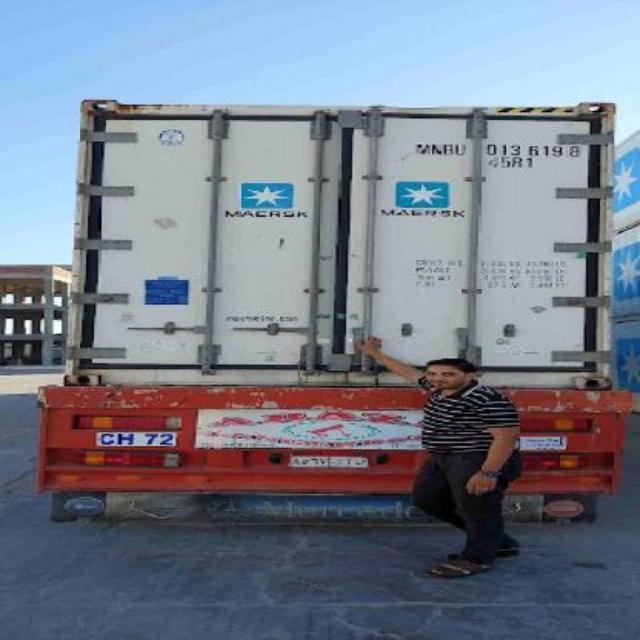0: (484, 144, 498, 156)
1: (540, 144, 552, 158), (502, 144, 512, 158)
3: (508, 142, 520, 154)
6: (526, 144, 540, 158)
8: (568, 146, 582, 158)
9: (552, 144, 564, 158)
B: (444, 145, 454, 157)
M: (416, 142, 429, 158)
N: (431, 145, 444, 155)
U: (452, 142, 468, 158)
